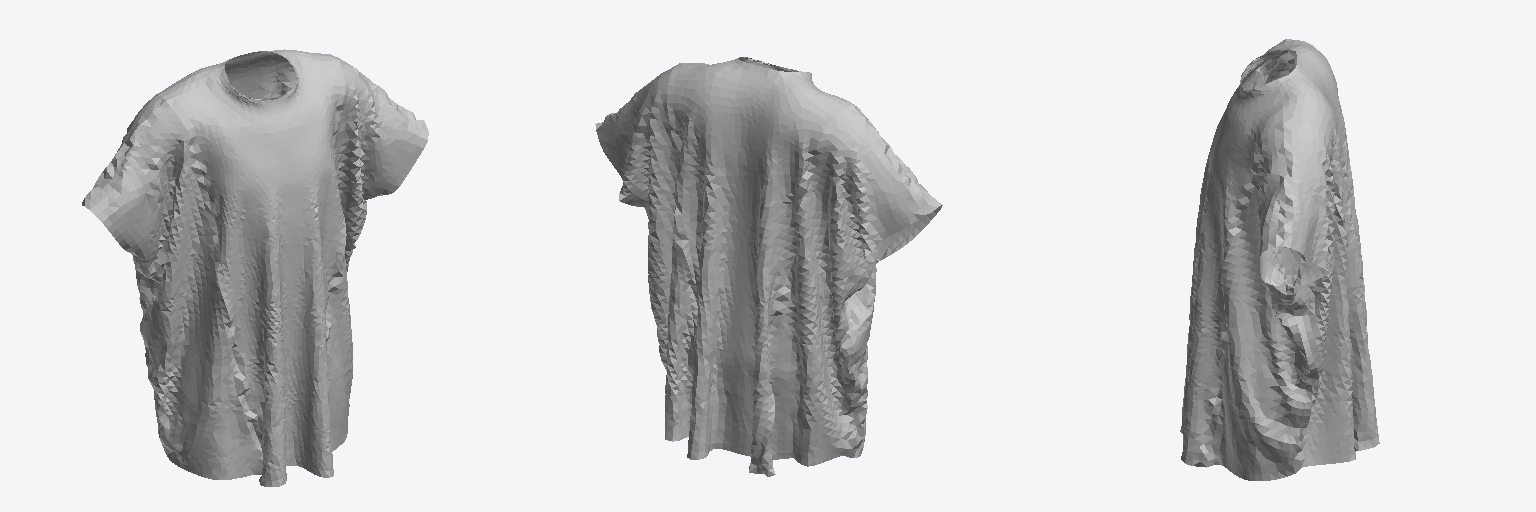
The model's file is poncho.obj.
The picture shows the model from 3 angles: view 1: azimuth 30°, elevation 25°; view 2: azimuth 150°, elevation 25°; view 3: azimuth 270°, elevation 25°; orthographic projection.
Parts seen in each view (by area): view 1: Danshiki_Top_pd20_Bman; view 2: Danshiki_Top_pd20_Bman; view 3: Danshiki_Top_pd20_Bman.
Part boxes in pixels (x1,y1,x2,y2): Danshiki_Top_pd20_Bman: (82,49,428,486); Danshiki_Top_pd20_Bman: (595,57,942,476); Danshiki_Top_pd20_Bman: (1180,39,1379,480).
Size of the model in its own units: 77.97 by 85.73 by 39.52.